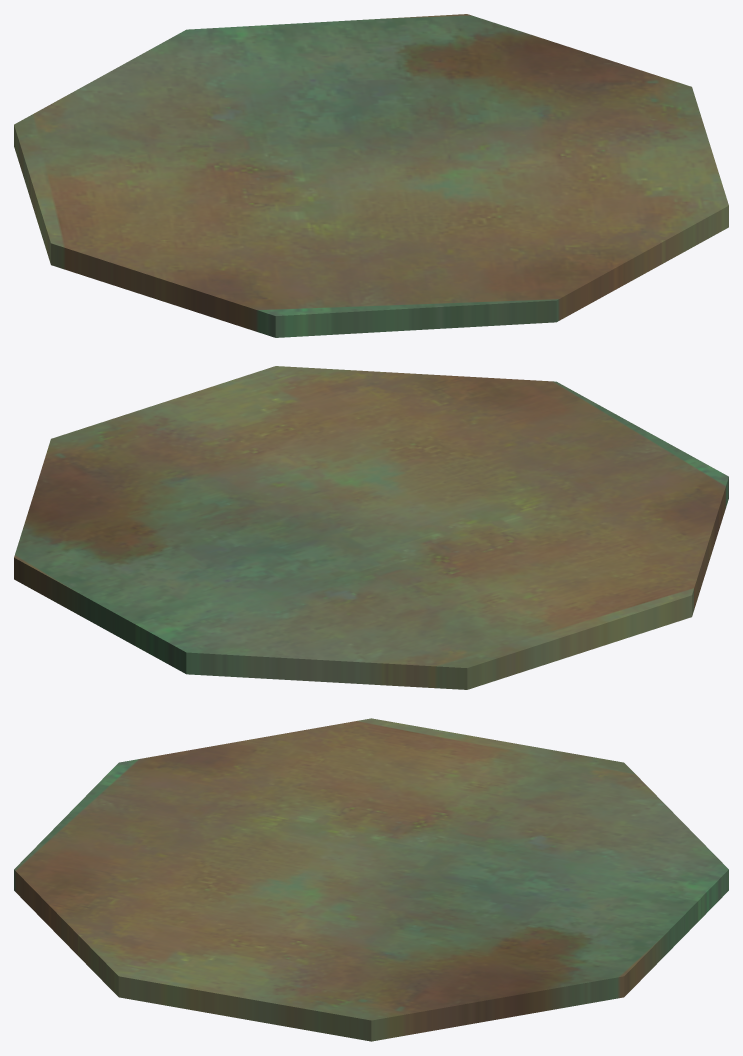
The model's file is GH_1_Top.gltf.
3 views of the same model, one above another, from view 1: azimuth 30°, elevation 25°; view 2: azimuth 150°, elevation 25°; view 3: azimuth 270°, elevation 25° (orthographic). The views are drawn at different scales.
Parts seen in each view (by area): view 1: GH_1_Top; view 2: GH_1_Top; view 3: GH_1_Top.
Part boxes in pixels (left/top/right/bottom): GH_1_Top: left=14, top=14, right=728, bottom=337; GH_1_Top: left=14, top=366, right=728, bottom=689; GH_1_Top: left=14, top=718, right=728, bottom=1041.
Bounding box in the file's own units: 4.95 × 0.4789 × 4.95.
Materials: 1 (1 with a texture image).
